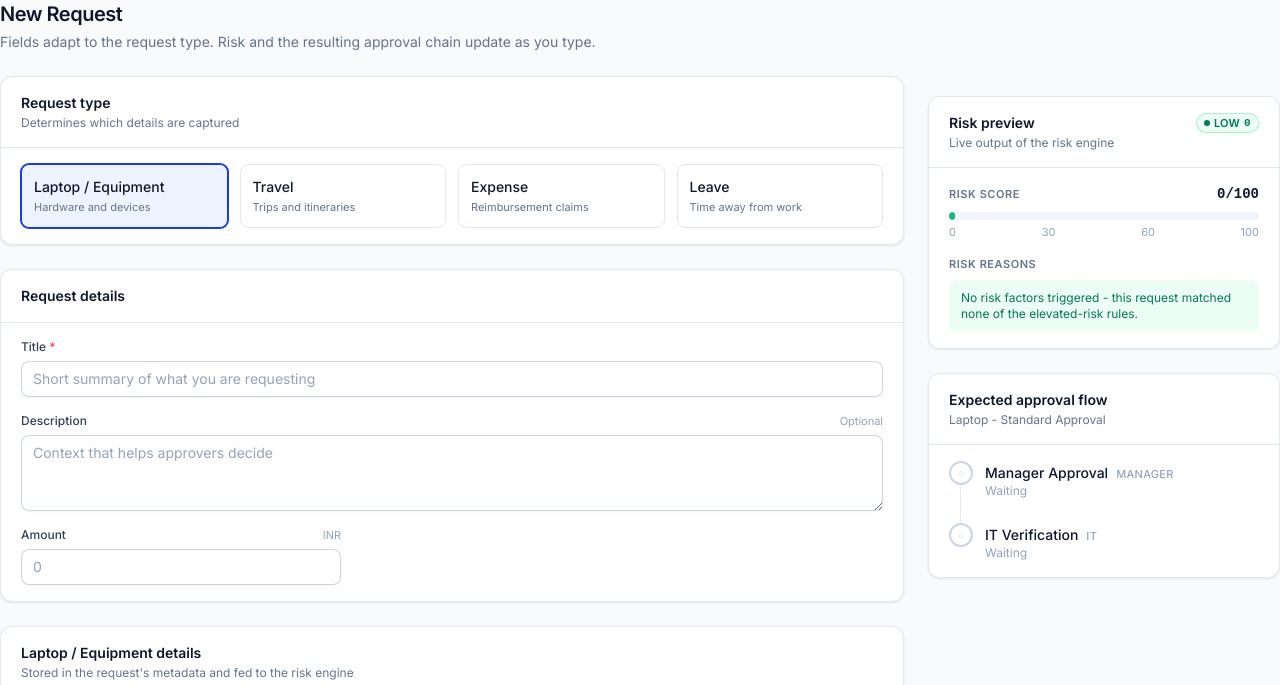
Test case: Risk preview on the request form › re-scores the request when a risk-bearing attribute changes
The image size is (1280, 685).
Check: the text "LOW" is shown, box 1214,116 -> 1240,130
Type "200000" into the number field labelled "Amount INR".
click(181, 567); type("200000")  # box 21,549 -> 341,585
(page scrolled)
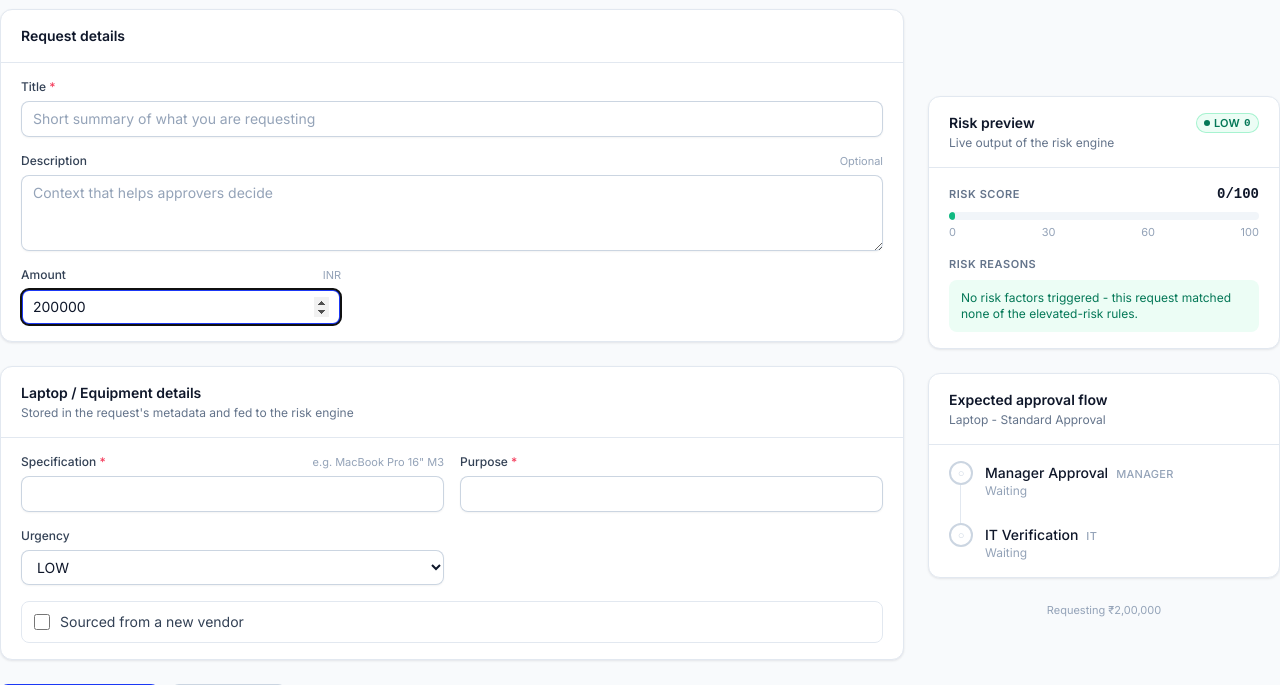
Click the checkbox labelled "Sourced from a new vendor".
click(42, 622)  # box 34,614 -> 50,630
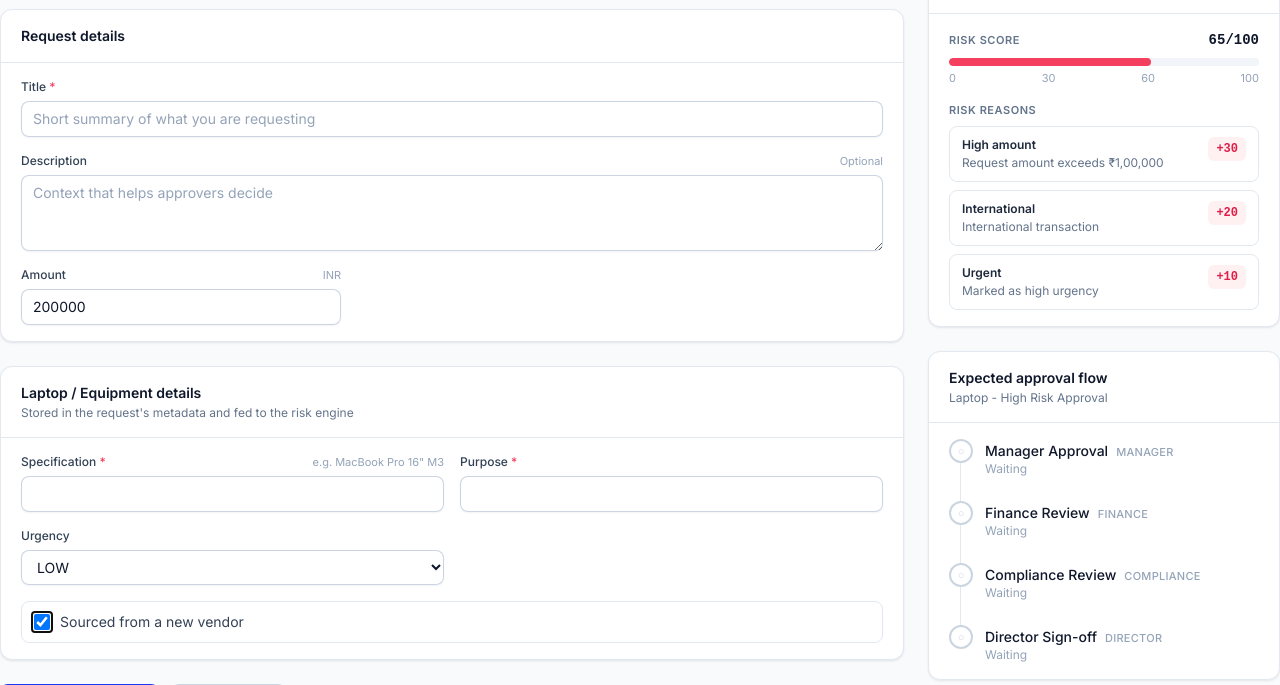
Check: the text "65/100" is shown, box 1209,30 -> 1259,50
